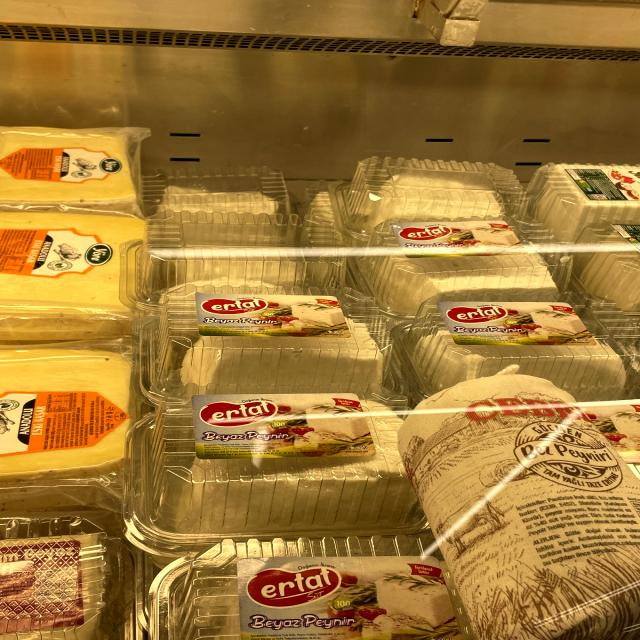cheese: (140, 406, 420, 537), (153, 290, 396, 395), (408, 304, 640, 397)
